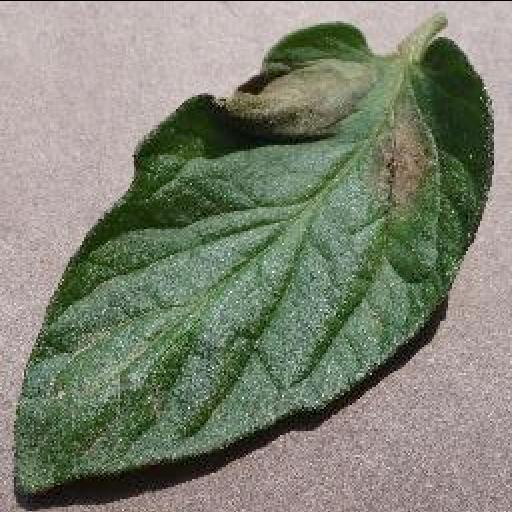disease_tomato: (10, 19, 496, 497)
